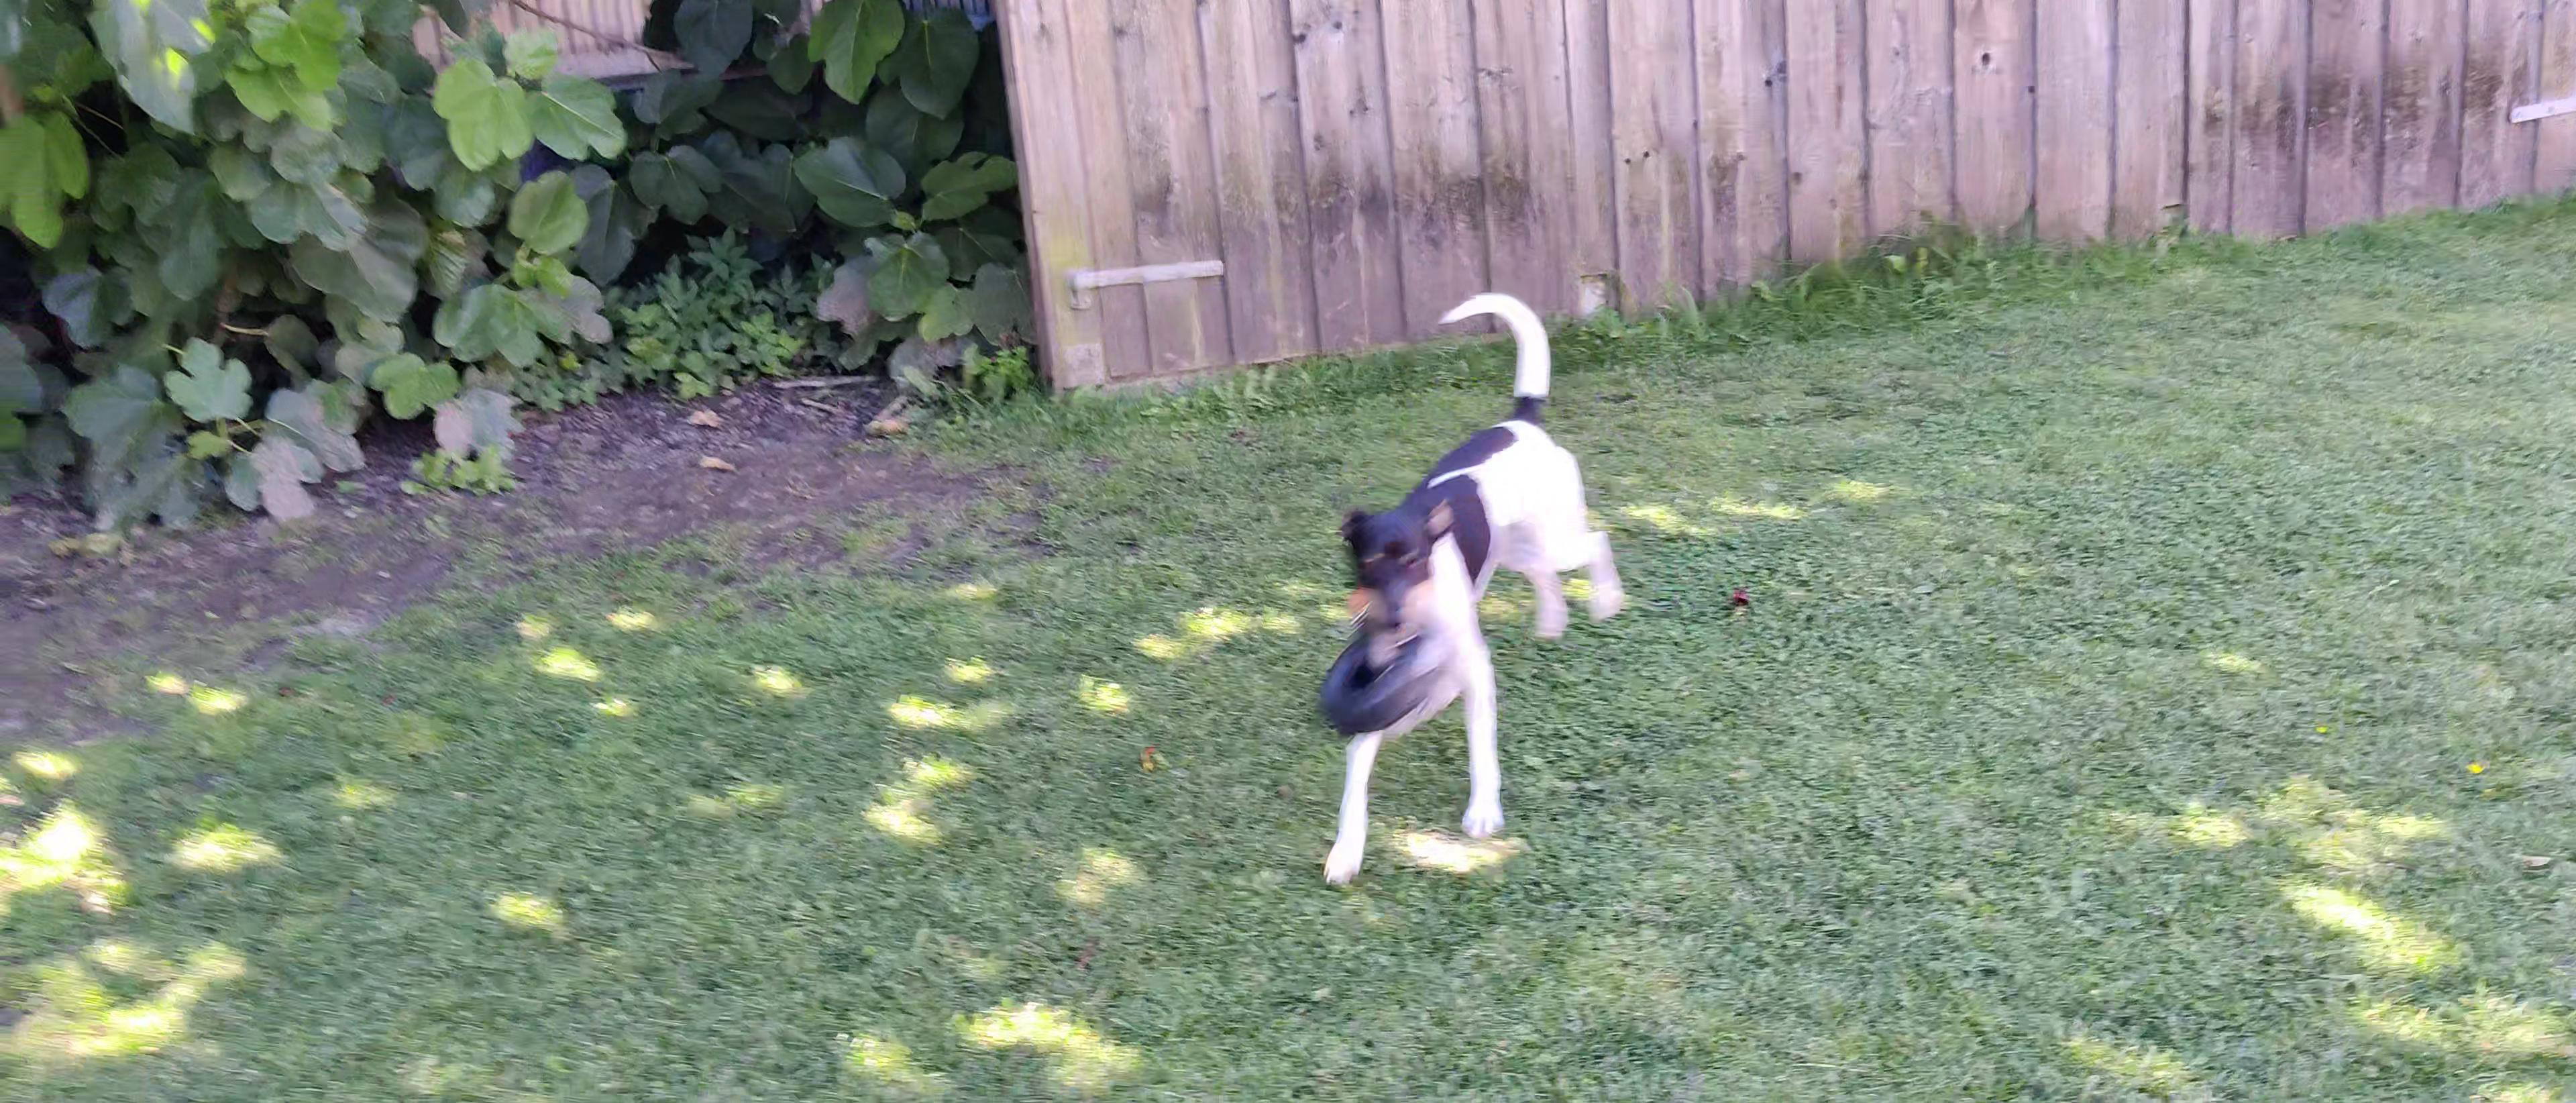Dog: (1295, 283, 1641, 899)
